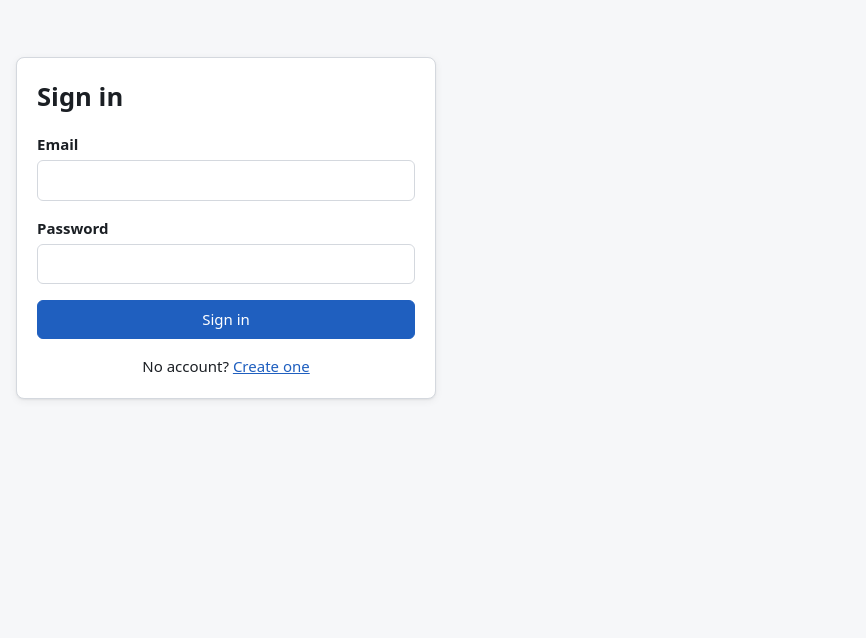
LoginPage › shows the disabled message on 403
The width and height of the screenshot is (866, 638).
Type "user@example.com" into the field labelled "Email" at (226, 180), box [37,160,415,200]
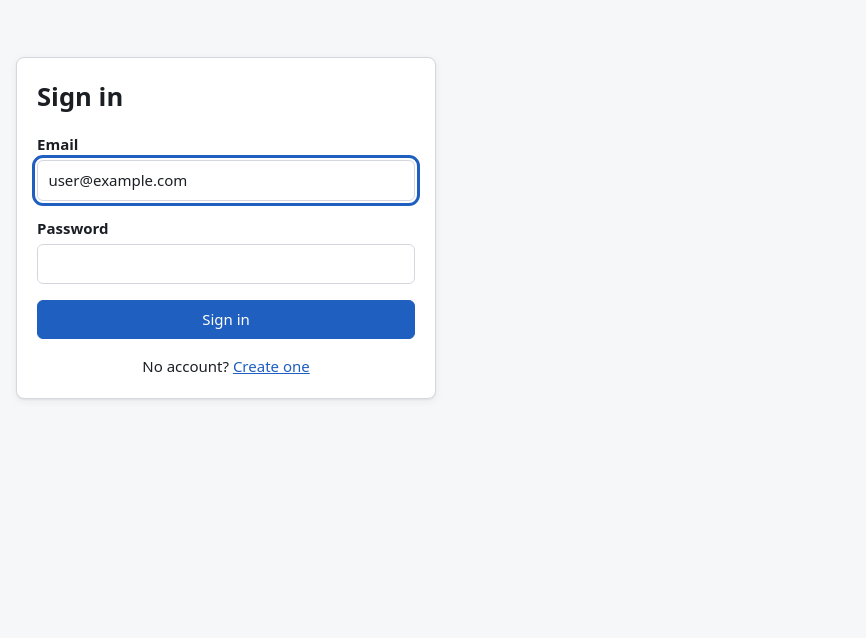
Type "wrong password!" into the password field labelled "Password" at (226, 264), box [37,244,415,284]
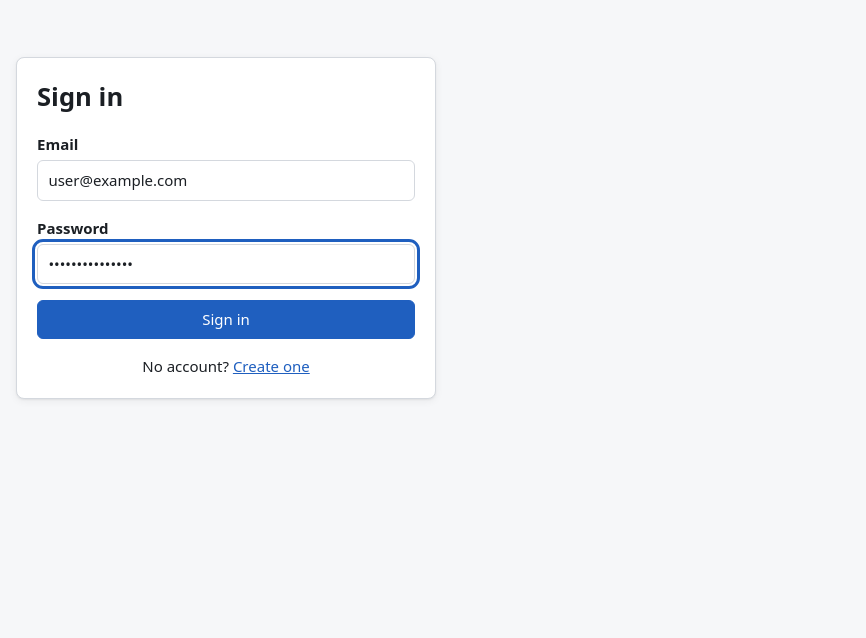
Click the button "Sign in" at (226, 320), box [37,300,415,339]
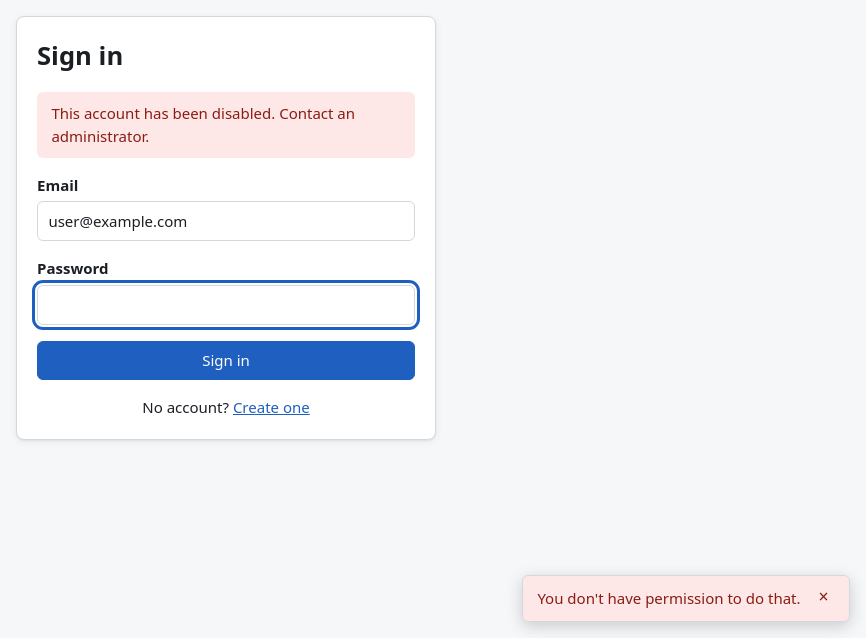
Check: the text "This account has been disabled. Contact an administrator." is shown, box [37,92,415,158]
